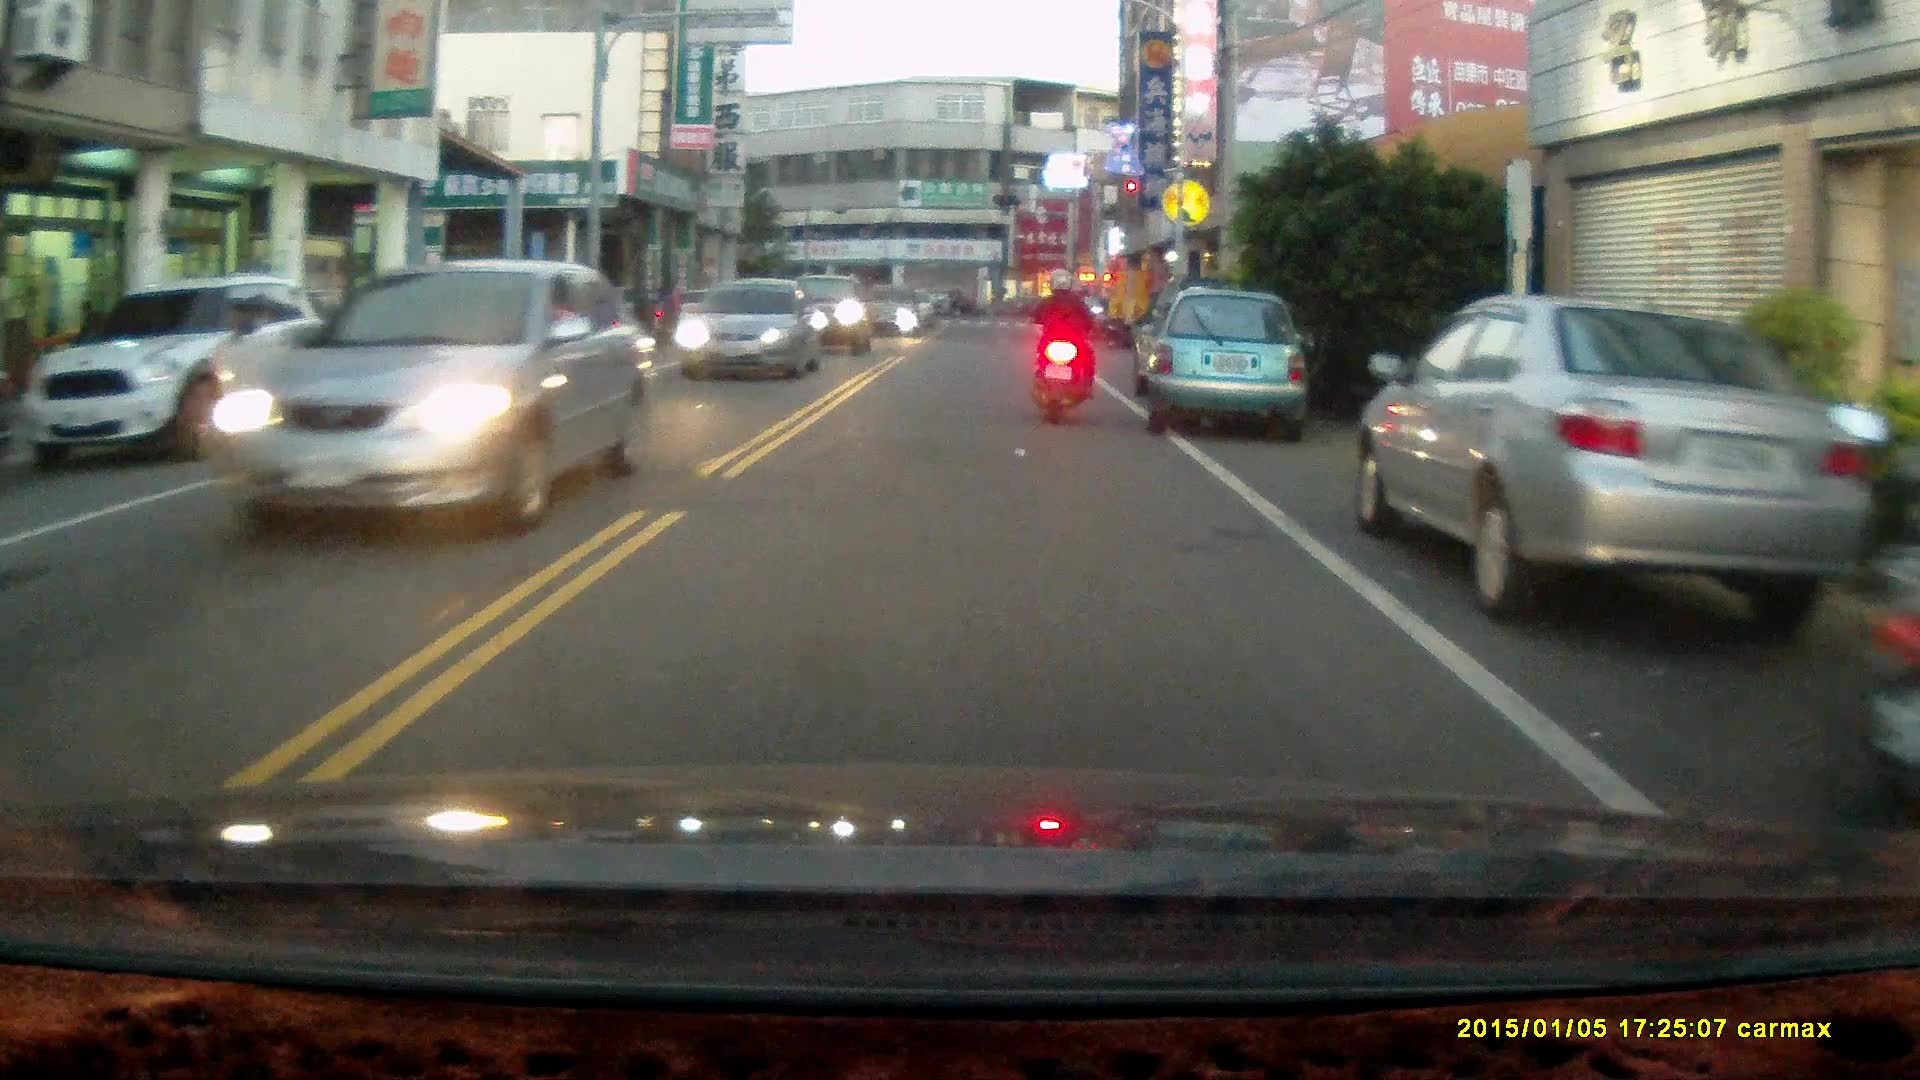pedestrian: (66, 296, 103, 368)
rider: (1030, 260, 1107, 422)
vehicle: (1352, 293, 1878, 634), (214, 257, 652, 530), (16, 271, 325, 476), (1144, 287, 1316, 440), (671, 279, 819, 385), (763, 266, 878, 360)
